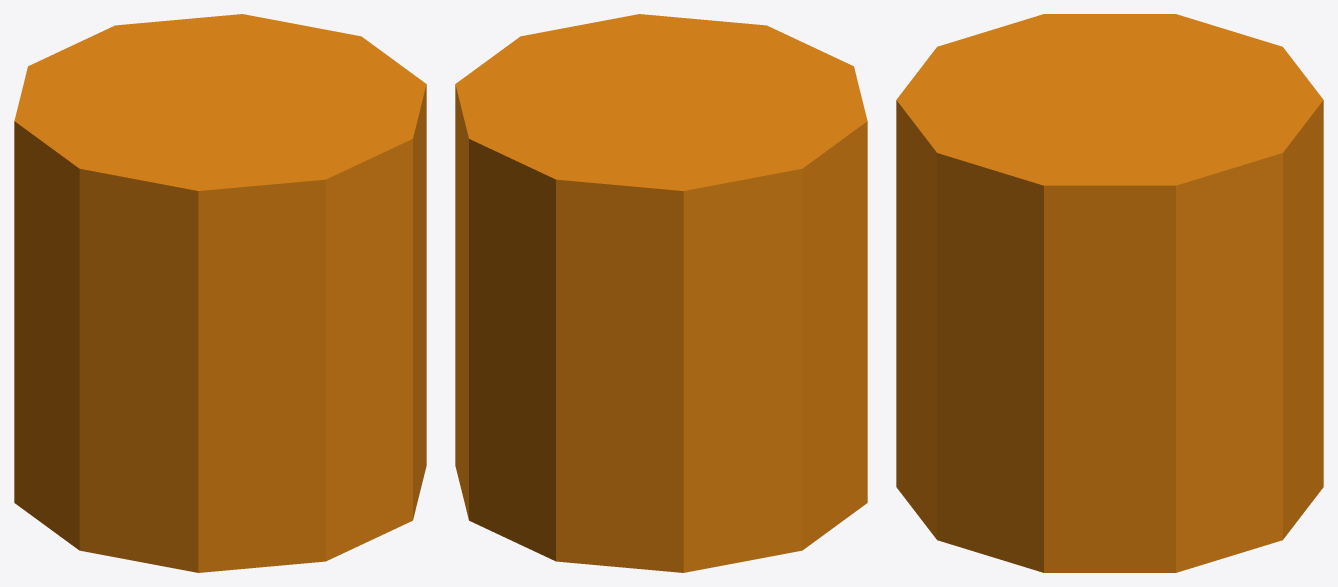
Rendered from SM_Enemy.007.fbx.
The picture shows the model from 3 angles, left to right: view 1: azimuth 30°, elevation 25°; view 2: azimuth 150°, elevation 25°; view 3: azimuth 270°, elevation 25°; orthographic projection.
Parts seen in each view (by area): view 1: SM_Enemy.007; view 2: SM_Enemy.007; view 3: SM_Enemy.007.
Part boxes in pixels (left/top/right/bottom): SM_Enemy.007: left=14, top=14, right=426, bottom=572; SM_Enemy.007: left=455, top=14, right=867, bottom=572; SM_Enemy.007: left=896, top=14, right=1323, bottom=572.
Bounding box in the file's own units: 0.1574 × 0.1655 × 0.1655.
